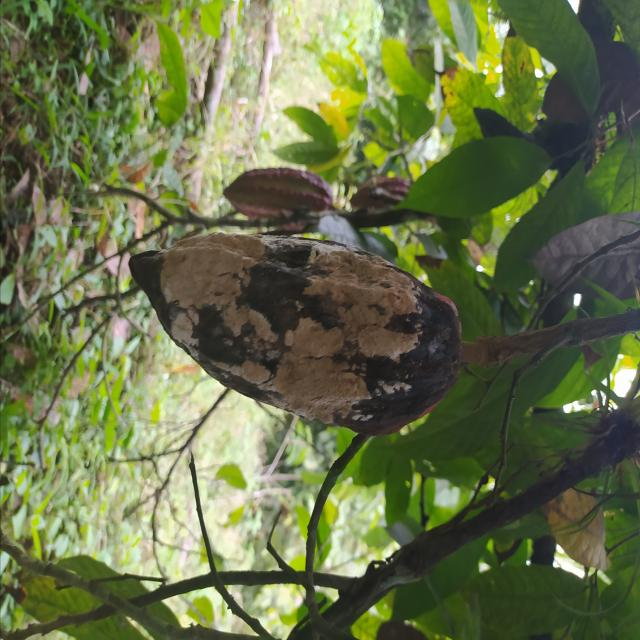Monilia: (127, 226, 464, 438)
Sana: (223, 166, 335, 232)
